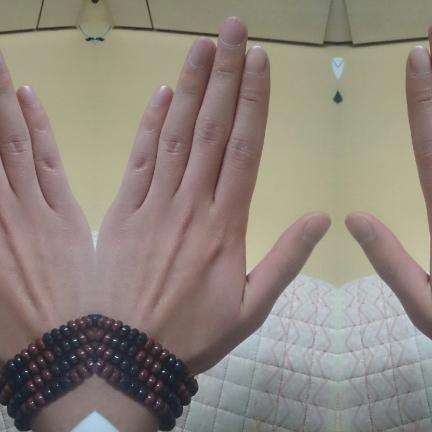Nail: (300, 214, 330, 245), (344, 214, 374, 245), (187, 38, 213, 67), (219, 17, 243, 46), (243, 46, 266, 75), (408, 46, 431, 75), (151, 85, 172, 106), (16, 85, 37, 106), (431, 23, 432, 40), (0, 54, 1, 62)
